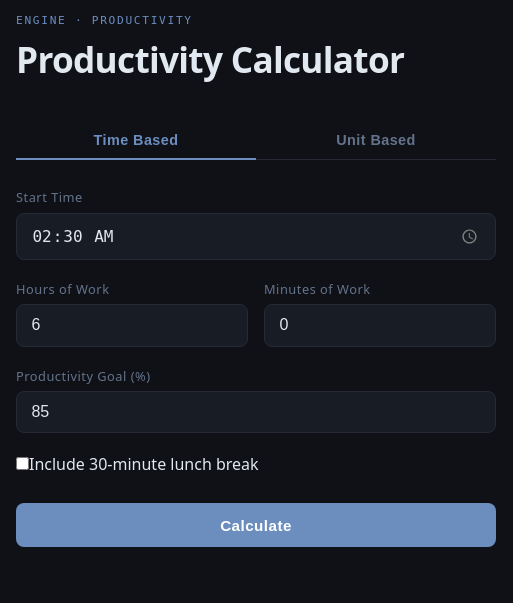
it: CalculatorPage › clears error when input changes on time_based
This screenshot has width=513, height=603.
Click the button "Calculate". click: (256, 525)
box: [16, 503, 496, 548]
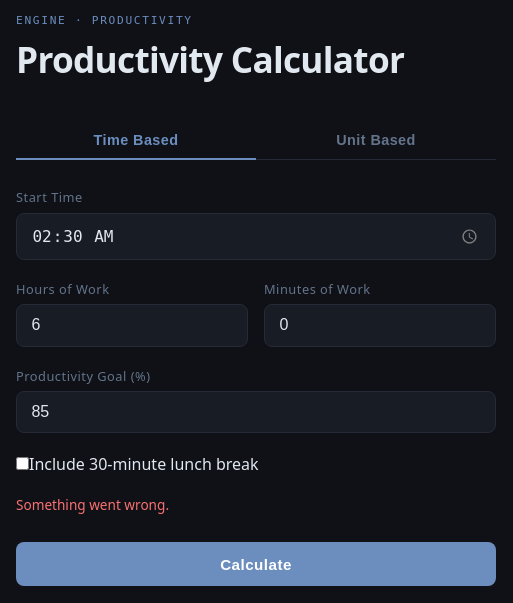
Check: the text "Something went wrong." is shown, box [16, 495, 169, 514]
Replace the text in the number field labelled "Hours of Work" with "7". click: (132, 325)
box: [16, 304, 248, 346]
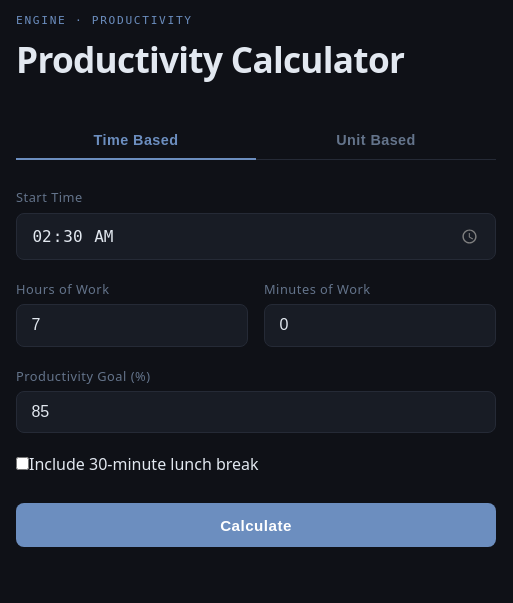
Check: the text "Something went wrong." is gone
